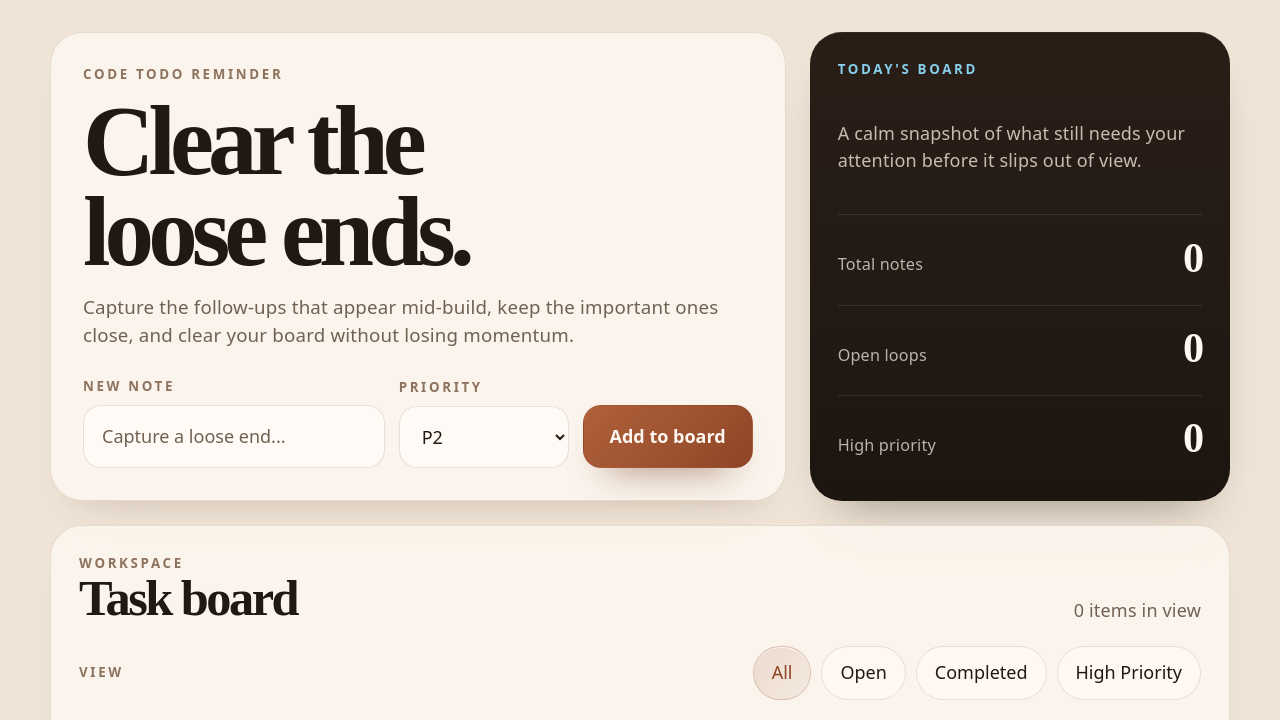
Test: App todo behavior › adds a todo and displays it in the list
Type "P1 bug" into the field with placeholder "Capture a loose end..." at (234, 437), box left=83, top=405, right=385, bottom=468
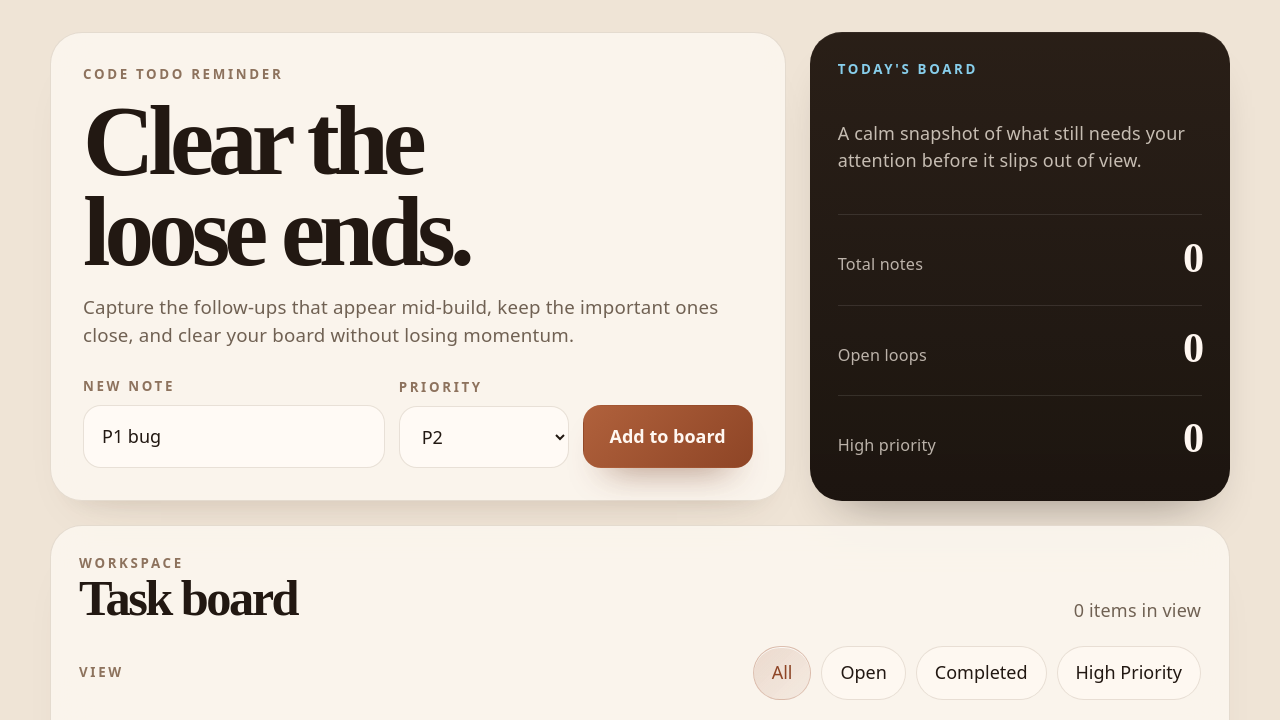
Select "P1" in the dropdown labelled "Priority" at (484, 437), box left=399, top=406, right=569, bottom=468
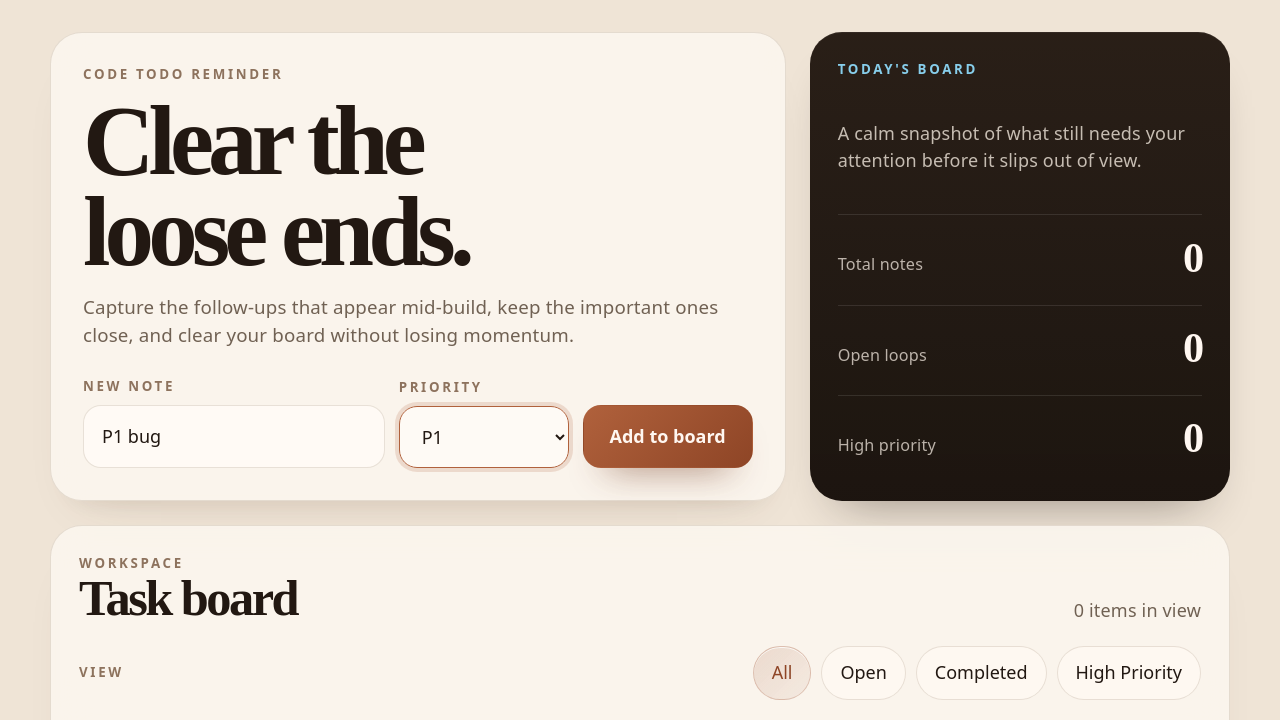
Click the button "Add to board" at (668, 437), box left=583, top=405, right=753, bottom=468
(page scrolled)
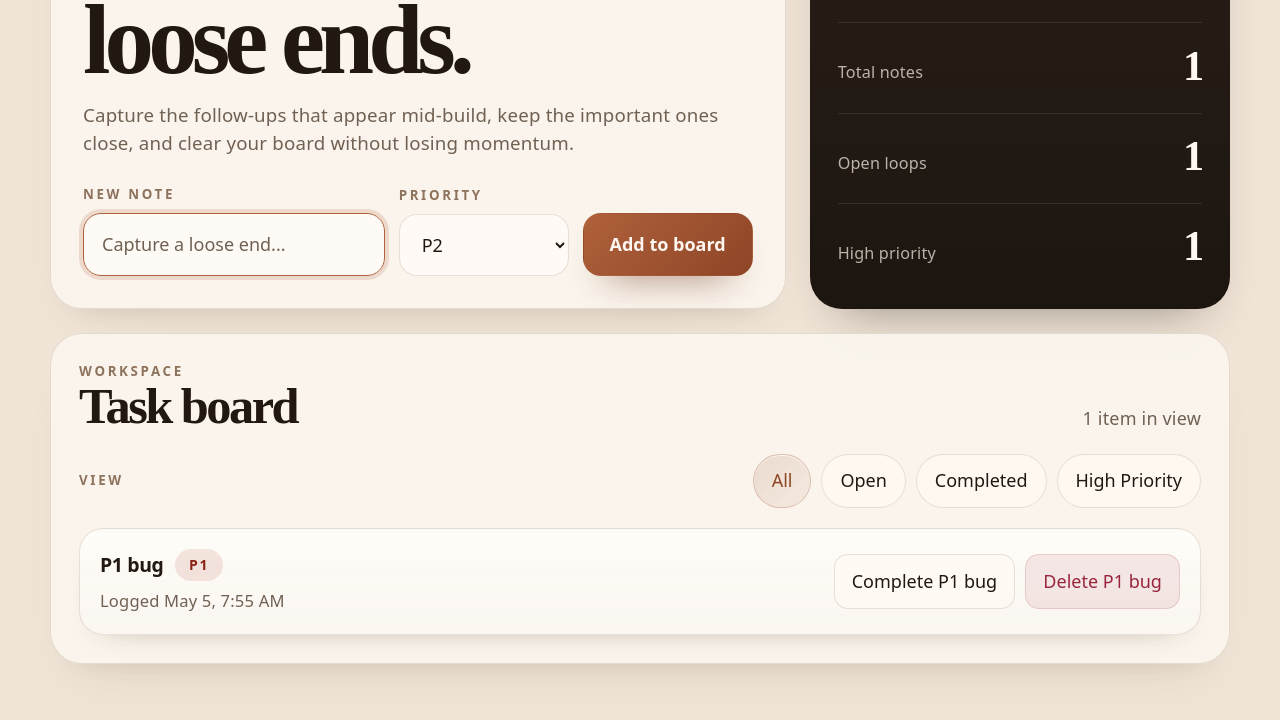
Expected: the list item "P1 bug" is shown, left=100, top=551, right=163, bottom=578
Expected: the text "P1 bug" is shown, left=100, top=550, right=163, bottom=580
Expected: the text "P1" is shown, left=175, top=549, right=223, bottom=581
